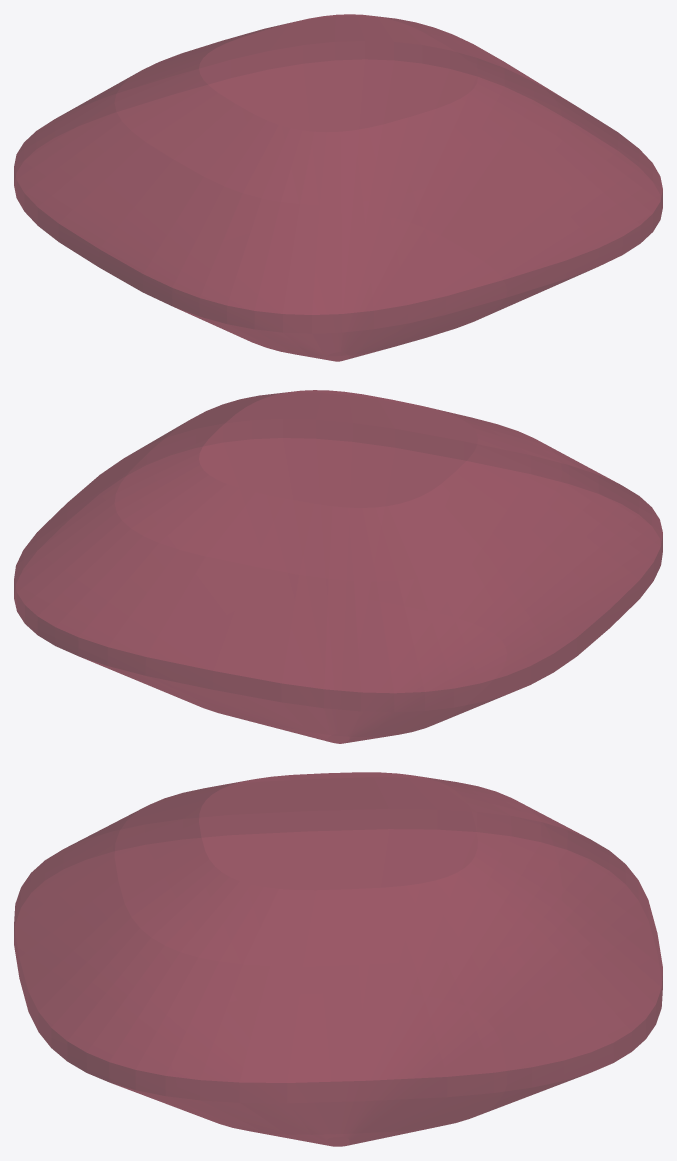
Rendered from stone-garnet.glb.
The picture shows the model from 3 angles, top to bottom: view 1: azimuth 30°, elevation 25°; view 2: azimuth 150°, elevation 25°; view 3: azimuth 270°, elevation 25°; orthographic projection. The views are drawn at different scales.
Visible parts, largest first — view 1: Sculpture; view 2: Sculpture; view 3: Sculpture.
Part boxes in pixels (x1,y1,x2,y2): Sculpture: (14,14,662,361); Sculpture: (14,390,662,743); Sculpture: (14,772,662,1146).
Size of the model in its own units: 2.03 by 1.07 by 2.03.
